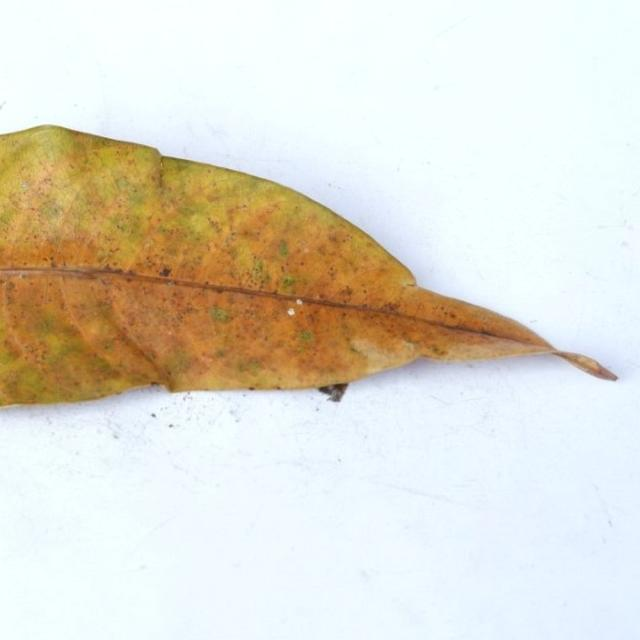Mango: (0, 125, 616, 406)
Powdery_Mildew: (167, 274, 259, 298), (248, 258, 269, 285), (21, 339, 44, 360), (155, 261, 176, 279), (377, 300, 404, 314), (210, 306, 231, 322), (326, 264, 342, 282), (296, 328, 314, 343), (244, 360, 262, 375), (280, 274, 296, 290), (116, 177, 133, 192), (207, 218, 222, 233), (316, 291, 333, 303), (429, 344, 445, 356), (278, 240, 289, 256), (445, 309, 460, 320), (4, 280, 16, 293), (115, 221, 129, 232), (343, 285, 354, 297), (50, 205, 61, 216), (113, 388, 127, 396), (103, 340, 114, 350), (479, 327, 491, 336), (43, 255, 55, 264), (229, 230, 237, 241), (144, 240, 154, 248), (150, 381, 161, 388), (50, 260, 59, 268), (158, 158, 163, 171), (287, 308, 295, 316), (21, 182, 29, 189), (18, 273, 27, 279), (303, 247, 310, 254), (248, 386, 256, 391), (316, 294, 322, 299), (276, 386, 283, 390)
